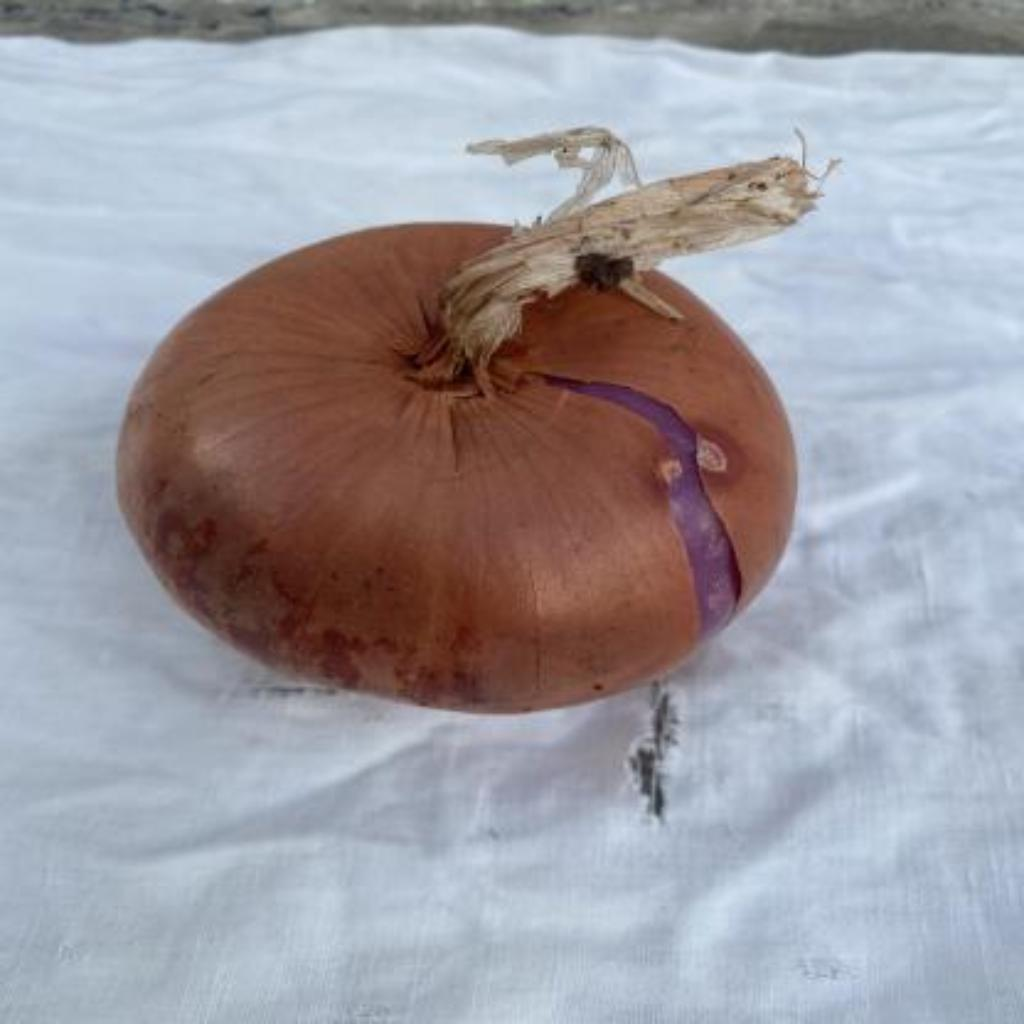Onion: (121, 128, 822, 713)
